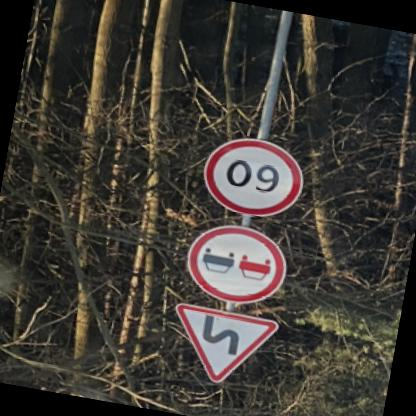speedlimit: (200, 133, 312, 225)
